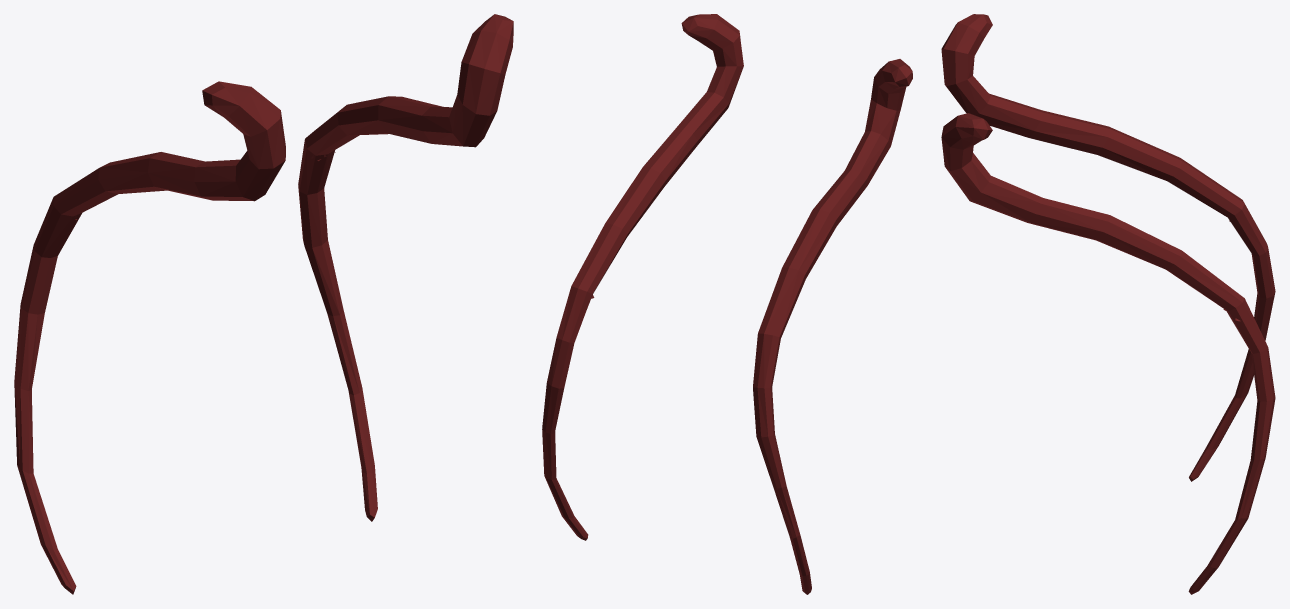
File: Artéria Iliaca Interna.FBX
3 renders of one model, left to right at view 1: azimuth 30°, elevation 25°; view 2: azimuth 150°, elevation 25°; view 3: azimuth 270°, elevation 25°, orthographic. The views are drawn at different scales.
Parts seen in each view (by area): view 1: CS_Arterie; view 2: CS_Arterie; view 3: CS_Arterie.
Part boxes in pixels (box(x1,y1,x2,y2)): CS_Arterie: box(14, 14, 513, 594); CS_Arterie: box(542, 14, 912, 594); CS_Arterie: box(941, 14, 1275, 594).
Bounding box in the file's own units: 288 × 492 × 316.
